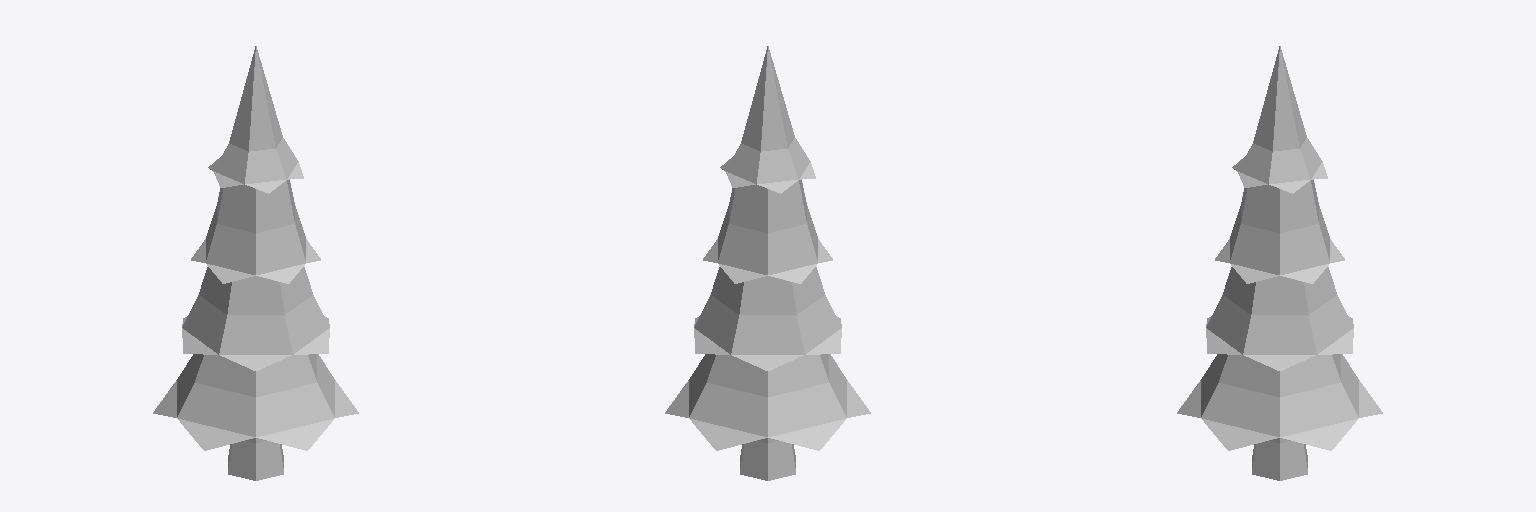
Rendered from Pine_1.obj.
The picture shows the model from 3 angles: view 1: azimuth 30°, elevation 25°; view 2: azimuth 150°, elevation 25°; view 3: azimuth 270°, elevation 25°; orthographic projection.
Parts seen in each view (by area): view 1: Pine_1; view 2: Pine_1; view 3: Pine_1.
Part boxes in pixels (bbox=[...]): Pine_1: bbox=[153, 46, 358, 480]; Pine_1: bbox=[665, 46, 870, 480]; Pine_1: bbox=[1177, 46, 1382, 480].
Bounding box in the file's own units: 1.18 × 3.01 × 1.33.